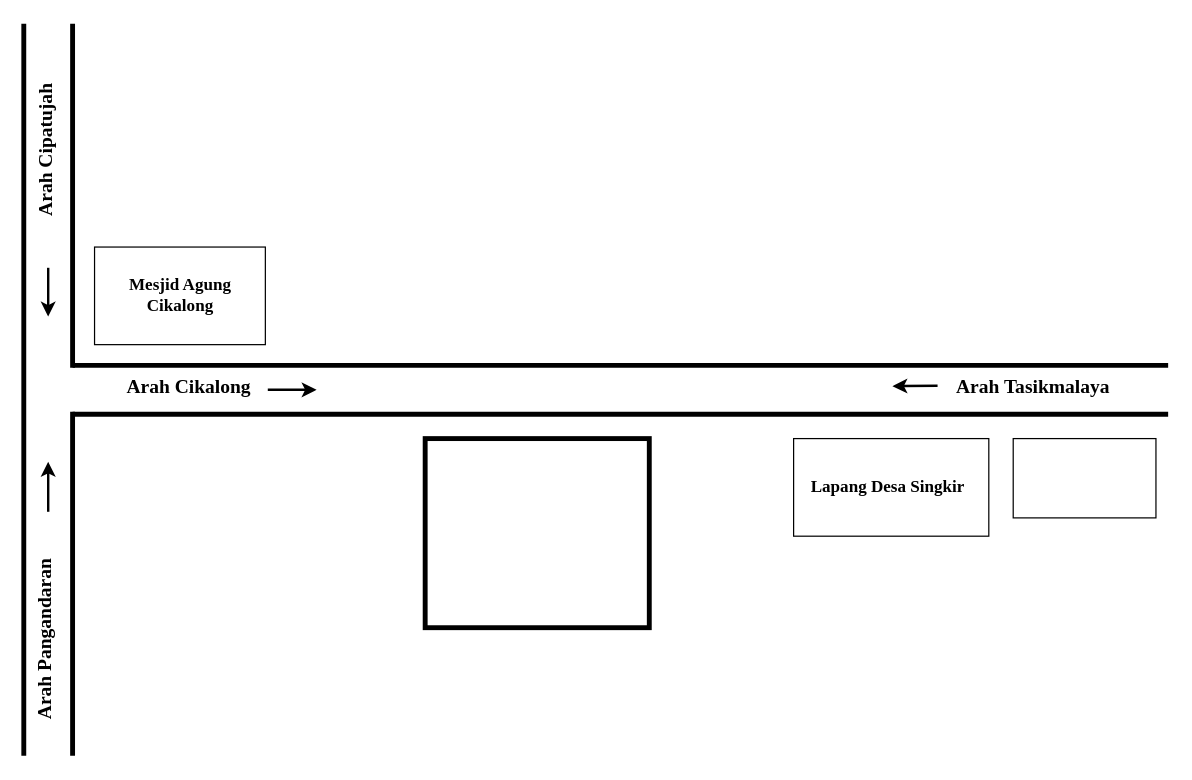
The diagram is 1192 pixels wide and 780 high, and some of its shapes have lost their labels. The shapes that lost their labels are listed below. From the top down, each one's centre as x and y in pixels, then its label:
At pixel 1084 477: "Desa Singir".
At pixel 536 533: "SMAN 1 CIKALONG".
